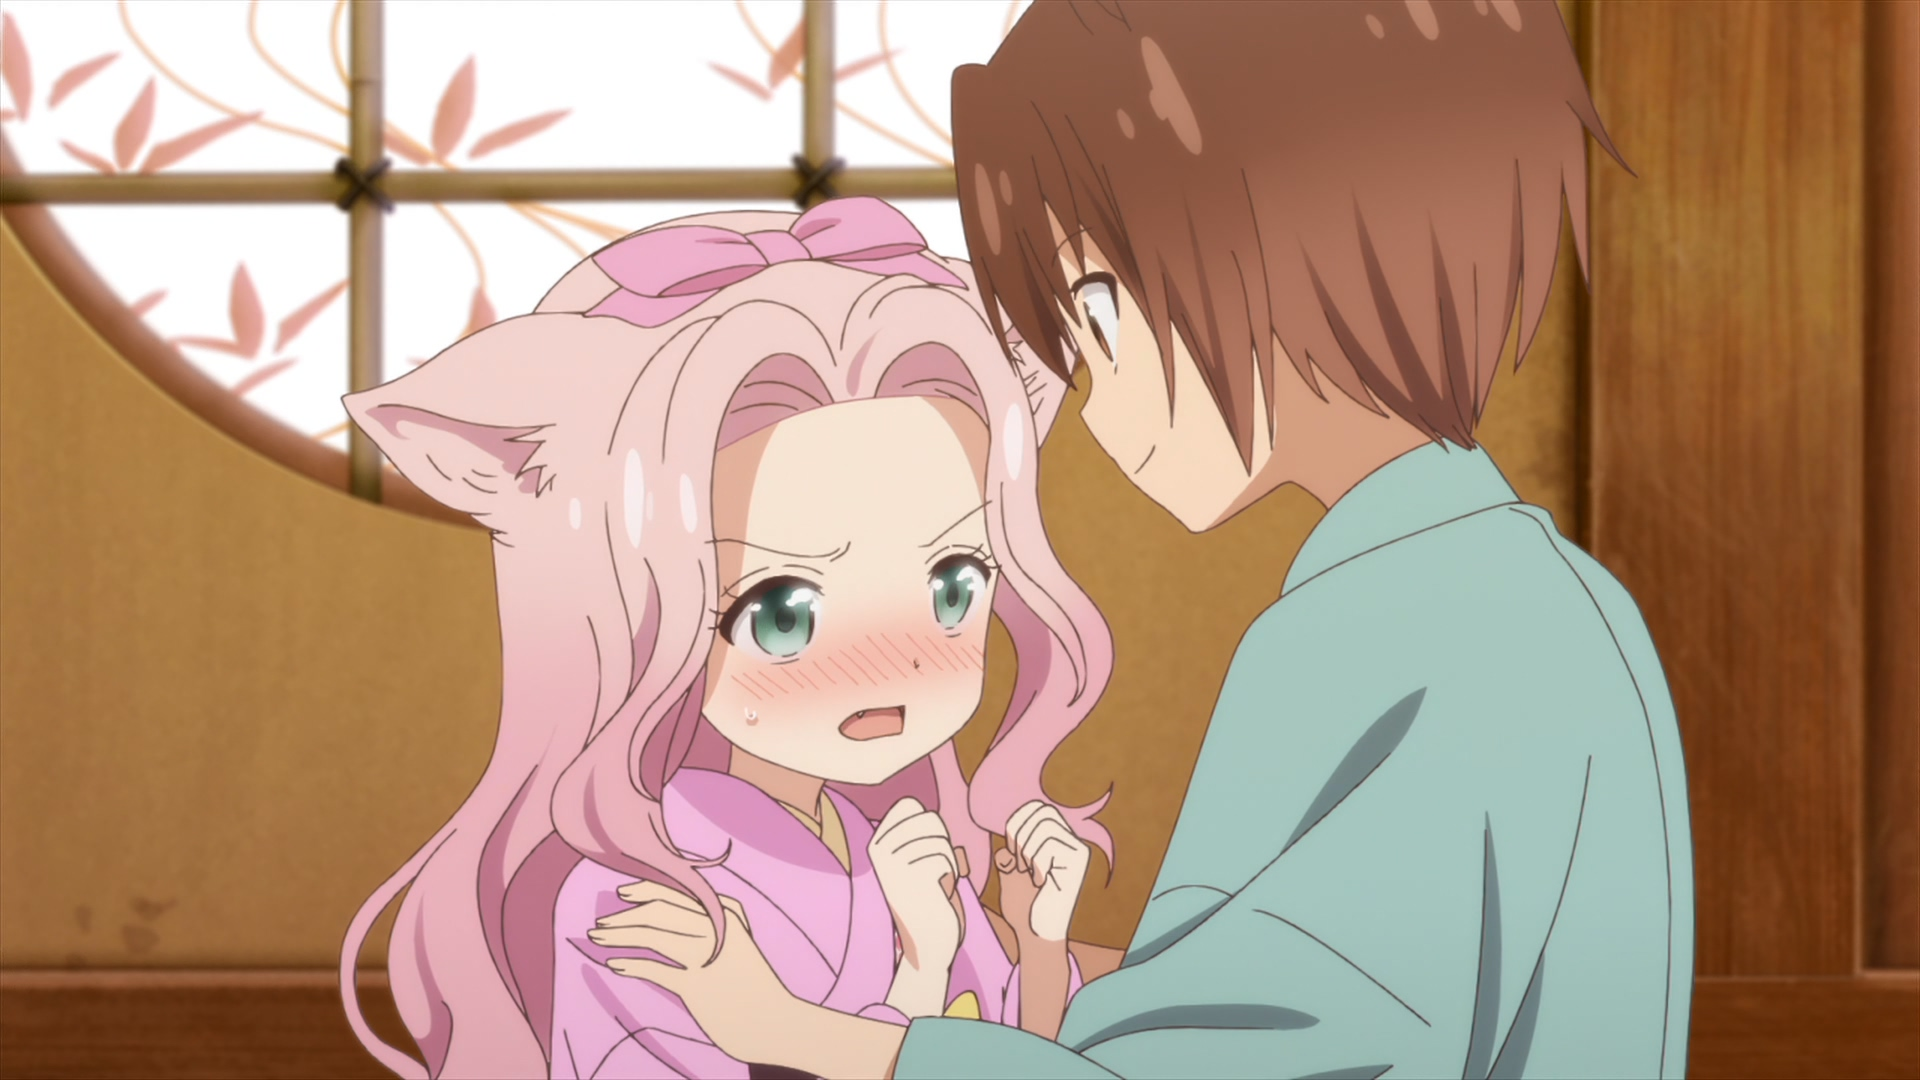枣: (585, 1, 1691, 1080)
莲: (338, 199, 1113, 1079)
